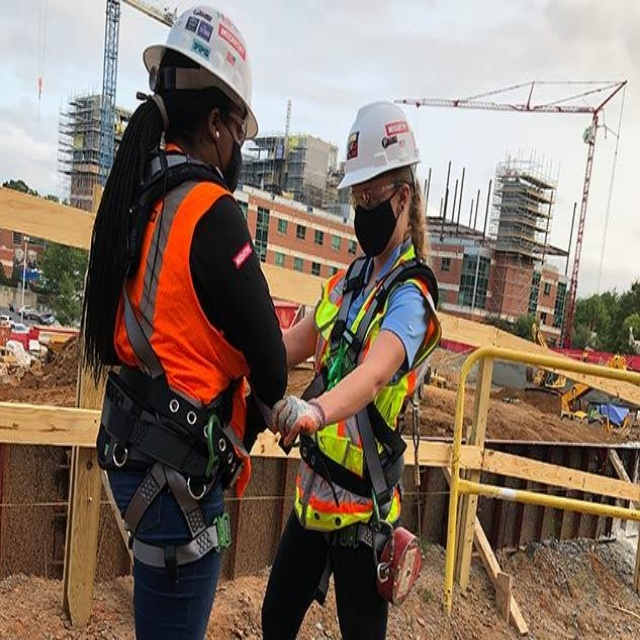Arnes_seguridad: (99, 155, 245, 562), (296, 245, 444, 544)
